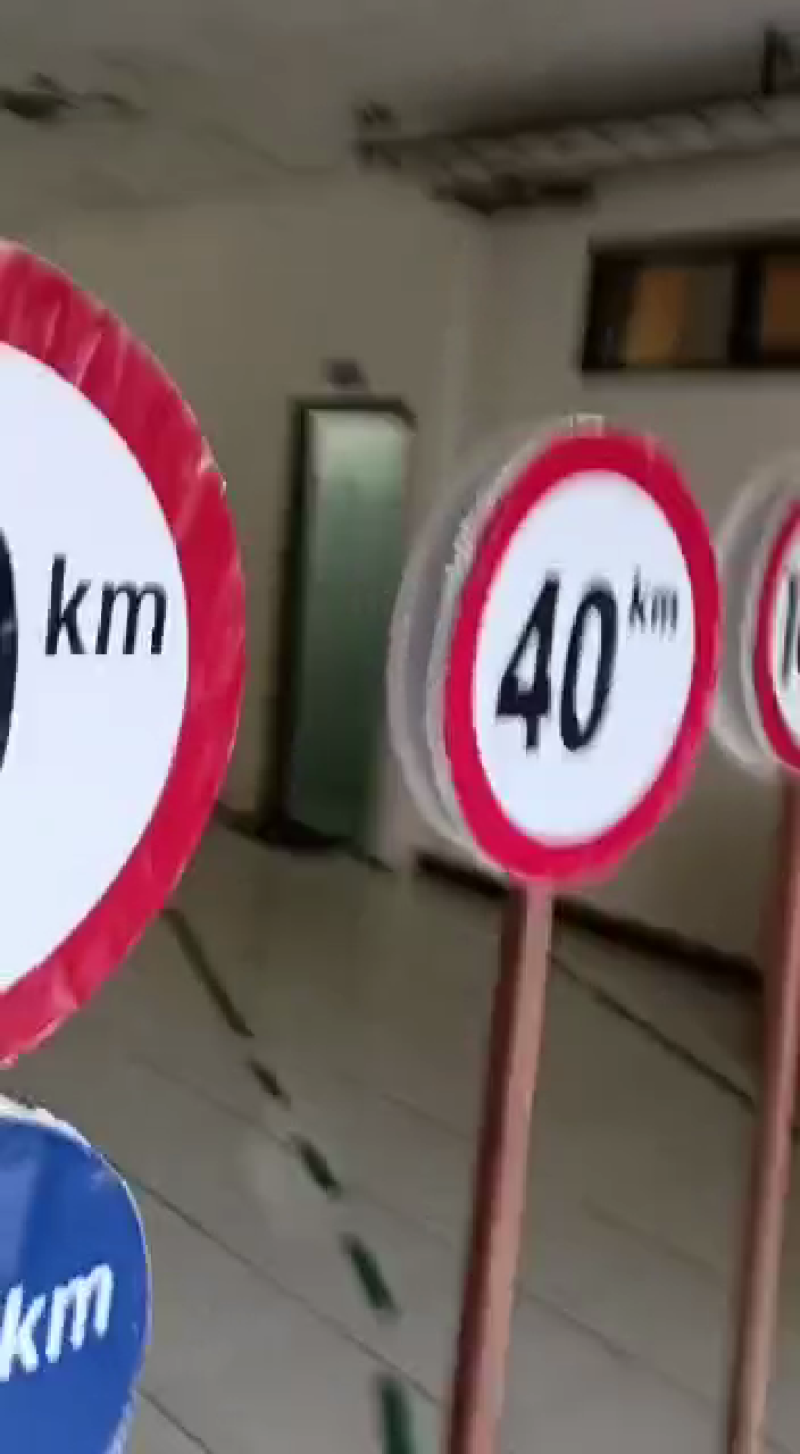batas maksimal 40kmperjam: (418, 411, 742, 905)
